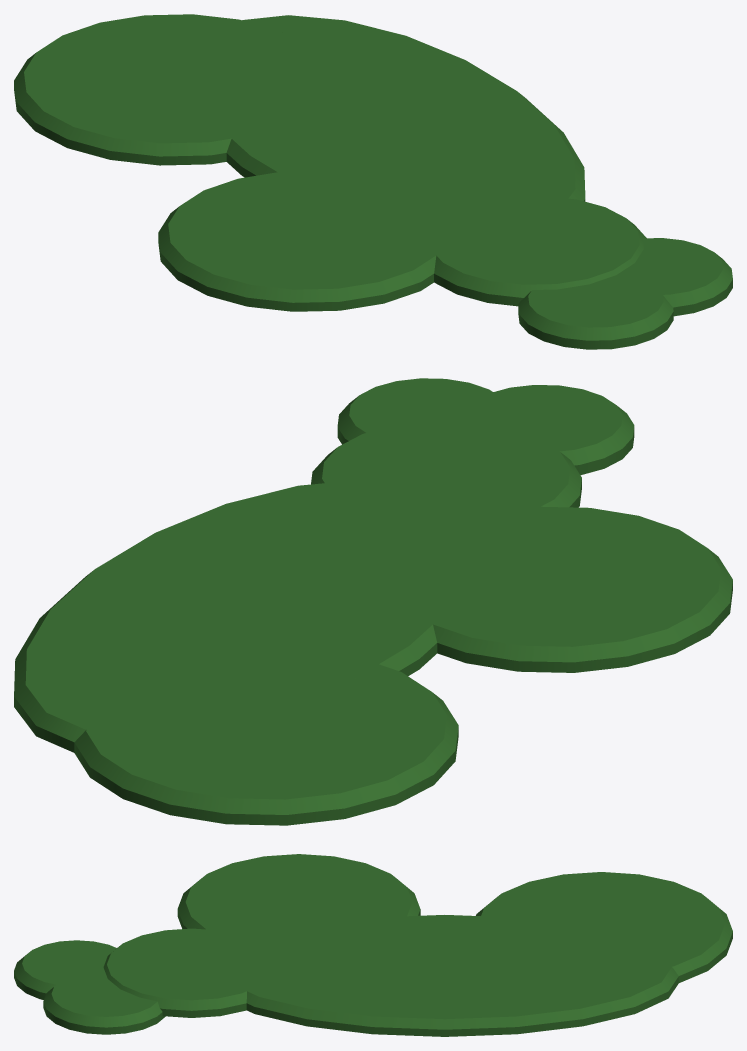
The model's file is Grass.fbx.
3 renders of one model, top to bottom at view 1: azimuth 30°, elevation 25°; view 2: azimuth 150°, elevation 25°; view 3: azimuth 270°, elevation 25°, orthographic. The views are drawn at different scales.
Parts seen in each view (by area): view 1: pCylinder16; view 2: pCylinder16; view 3: pCylinder16.
Part boxes in pixels (<box>): pCylinder16: <box>14,14,732,349</box>; pCylinder16: <box>14,378,732,825</box>; pCylinder16: <box>14,854,732,1036</box>.
Size of the model in its own units: 57.92 by 2.73 by 102.
